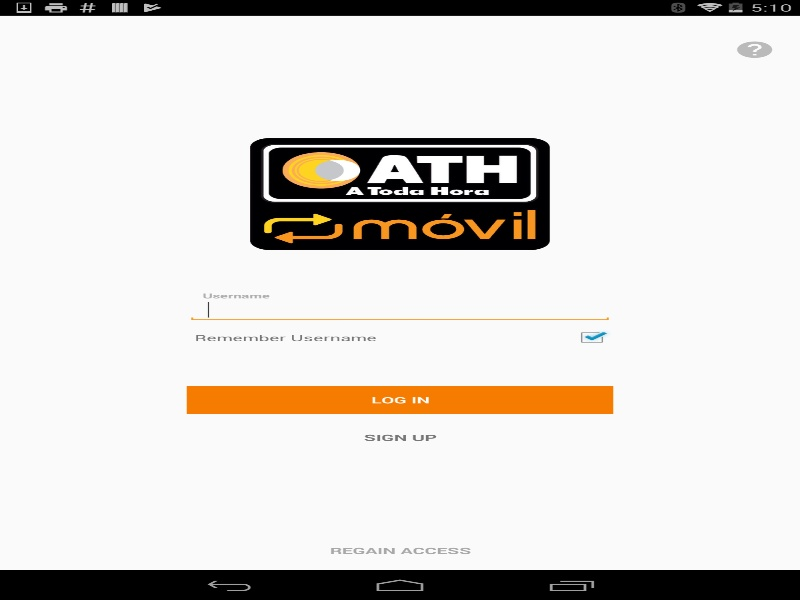Button: (186, 423, 613, 451), (186, 386, 613, 413), (730, 25, 778, 73)
Input: (186, 297, 613, 322)
